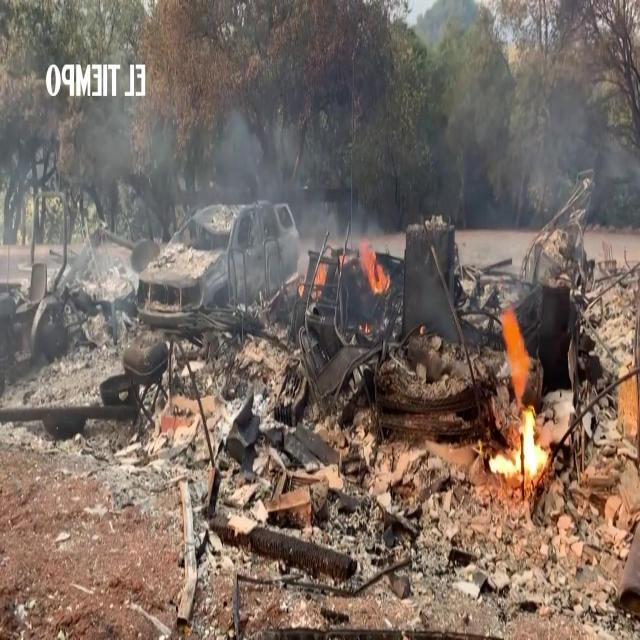Fire: (491, 310, 537, 404), (487, 412, 549, 474), (361, 238, 391, 294)
